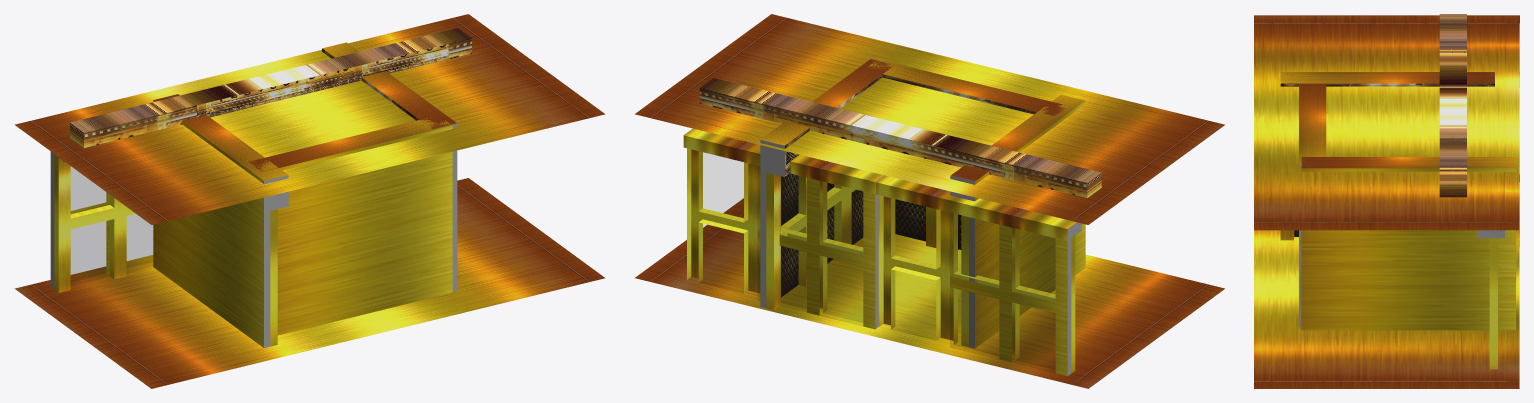
The model's file is new_elevator.fbx.
3 views of the same model, side by side, from view 1: azimuth 30°, elevation 25°; view 2: azimuth 150°, elevation 25°; view 3: azimuth 270°, elevation 25° (orthographic). The views are drawn at different scales.
Parts seen in each view (by area): view 1: Elevator, Door_Left; view 2: Elevator, Door_Left, Door_Right; view 3: Elevator, Door_Right.
Part boxes in pixels (x1,y1,x2,y2): Elevator: (14, 14, 605, 388); Door_Left: (50, 151, 152, 292); Elevator: (635, 14, 1224, 388); Door_Left: (876, 175, 1081, 376); Door_Right: (683, 128, 884, 329); Elevator: (1254, 14, 1519, 388); Door_Right: (1477, 230, 1504, 369).
Bounding box in the file's own units: 70.12 × 26.69 × 36.68.
Materials: 6 (4 with a texture image).
